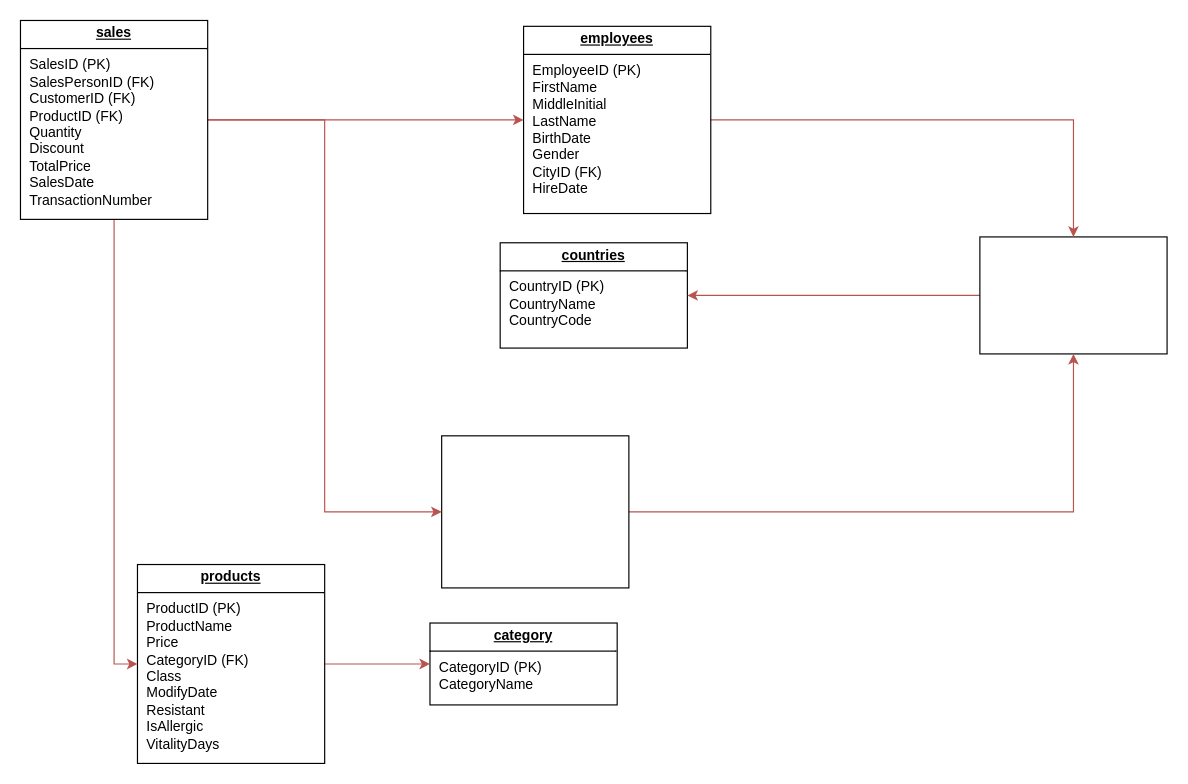
Some shapes in this 1188 by 784 pixel diagram are drawn without their labels. Here are the shapes that lost their labels. From the top down, the centre of each, then its label:
the point at 1073,295: cities CityID (PK) CityName Zipcode CountryID (FK)
the point at 535,511: customers CustomerID (PK) FirstName MiddleInitial LastName CityID (FK) Address
